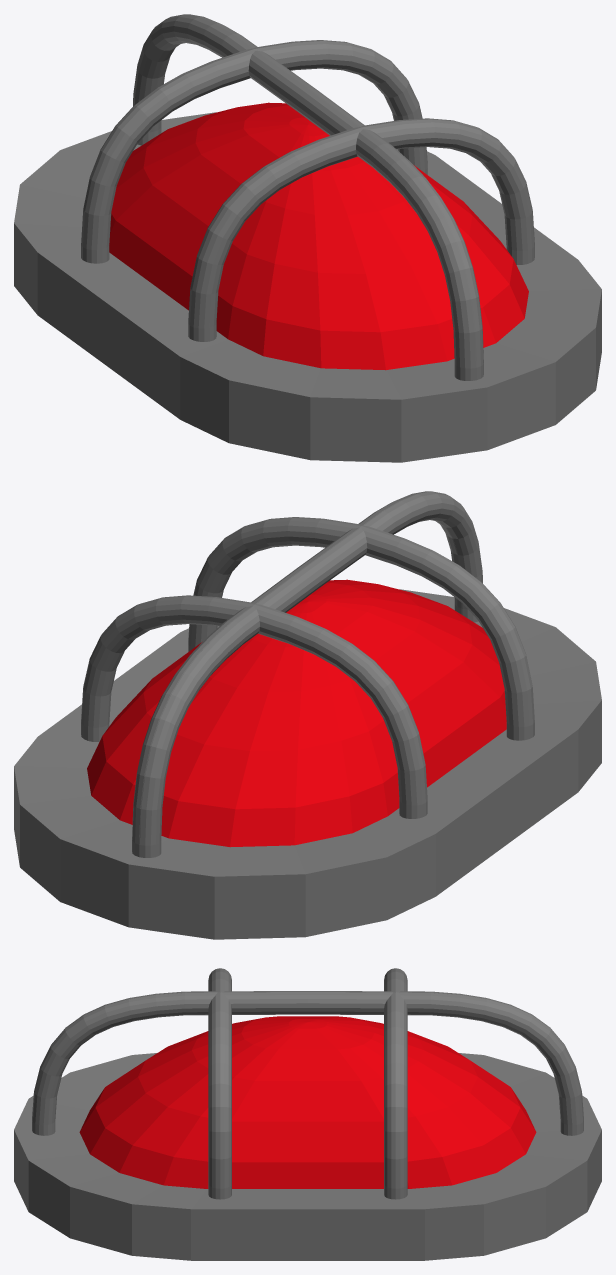
The model's file is Luz Roja.fbx.
The picture shows the model from 3 angles, top to bottom: view 1: azimuth 30°, elevation 25°; view 2: azimuth 150°, elevation 25°; view 3: azimuth 270°, elevation 25°; orthographic projection. The views are drawn at different scales.
Visible parts, largest first — view 1: Cylinder.003; view 2: Cylinder.003; view 3: Cylinder.003.
Boxes of the visible parts, x1,y1,x2,y2 form: Cylinder.003: [14, 14, 601, 462]; Cylinder.003: [14, 491, 601, 939]; Cylinder.003: [14, 968, 601, 1260].
Bounding box in the file's own units: 35.69 × 19.78 × 55.73.
